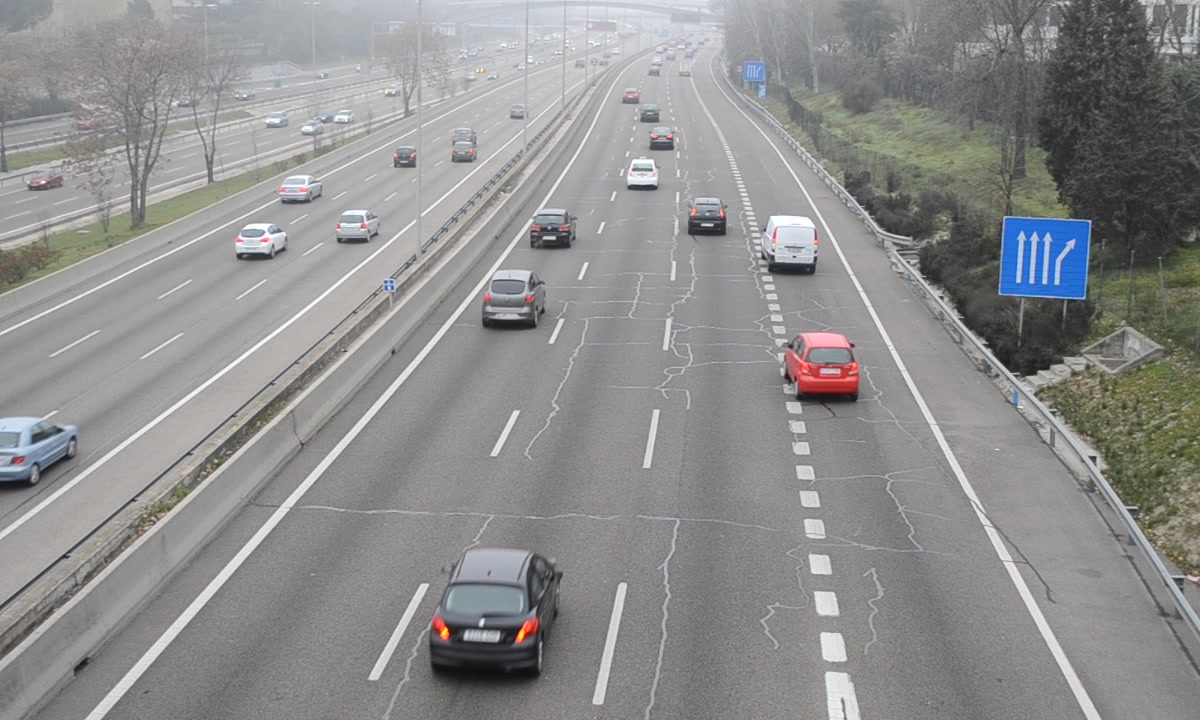car: (432, 550, 563, 676), (784, 331, 861, 396), (482, 270, 543, 326), (528, 209, 577, 245), (688, 197, 726, 237), (625, 155, 661, 190), (648, 126, 678, 149)
van: (762, 216, 820, 270)
